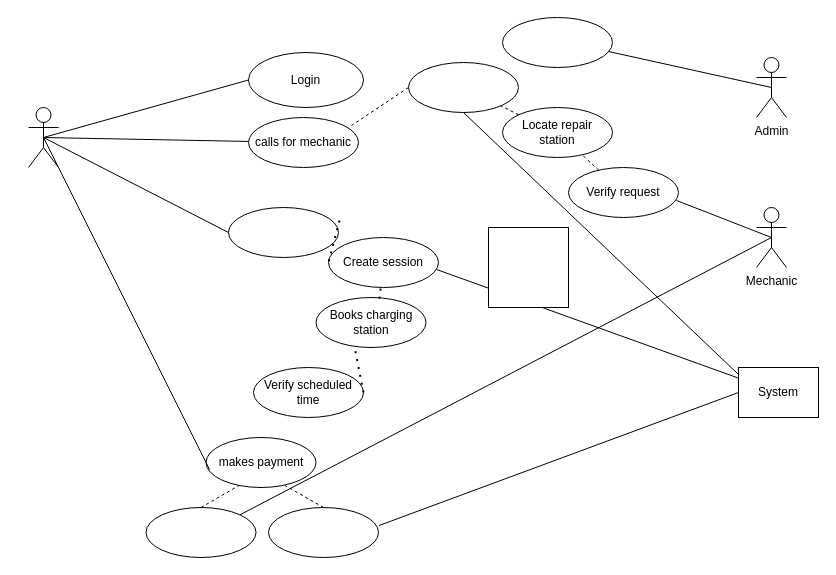
Image size: 836x575. Some labels were removed from this diagram. Here are the shapes that lost their labels. From the top down, the box of each, then its label:
(502, 16, 612, 68): manages mechanic avaiblity
(408, 62, 518, 112): Create service request
(28, 106, 58, 168): Customer
(228, 206, 338, 258): Locates charging station
(145, 506, 256, 558): by cash
(268, 506, 378, 558): online
